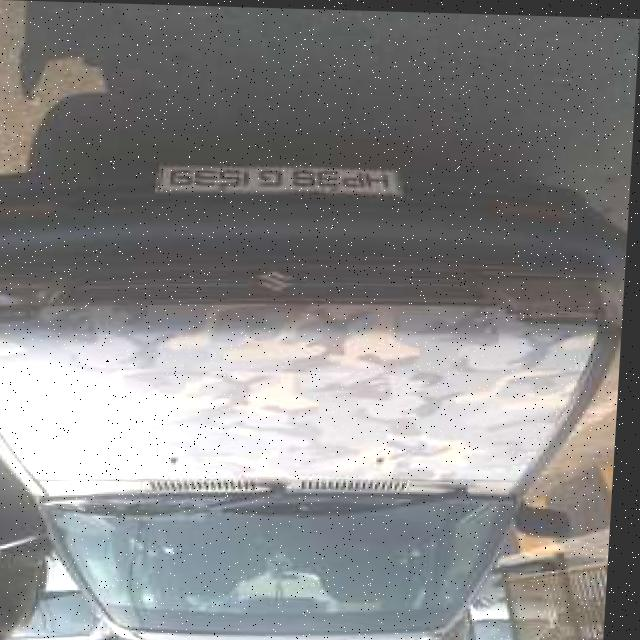plate: (155, 158, 400, 198)
